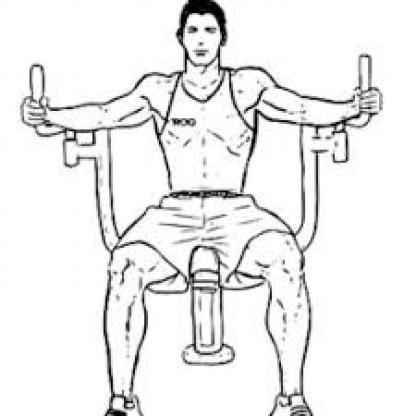chest fly machine: (9, 0, 389, 416)
